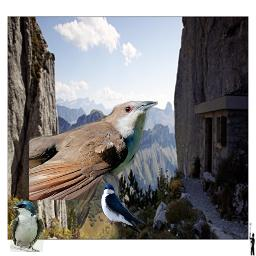Cuckoo: (29, 101, 158, 200)
Swallow: (100, 183, 145, 232), (10, 200, 44, 252)
